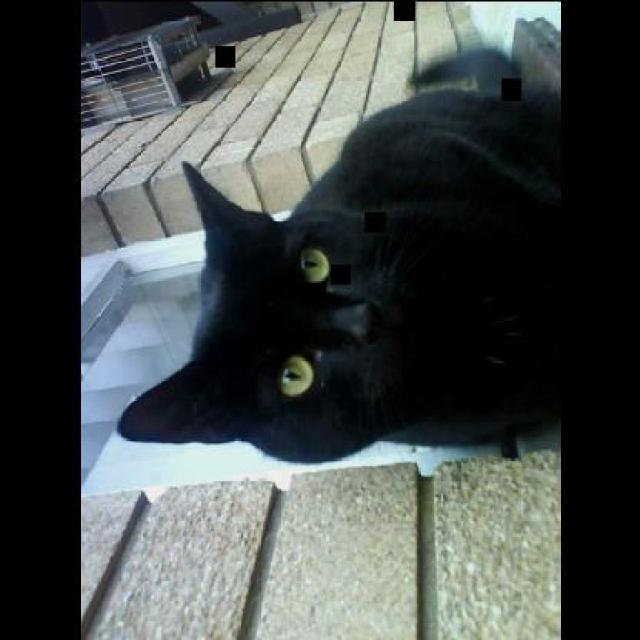unauthorized: (116, 17, 564, 465)
